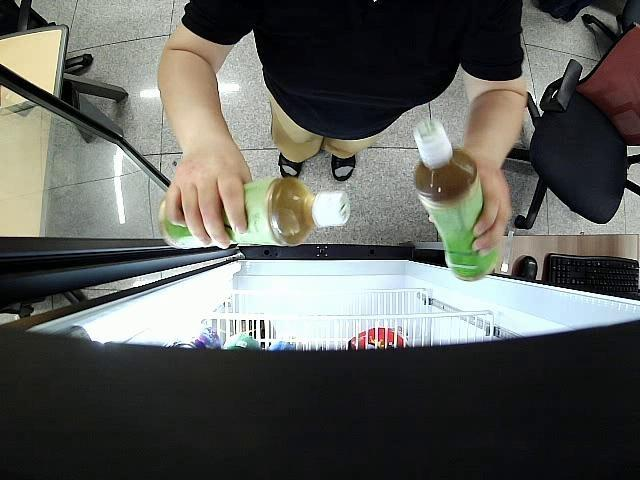19_17cha: (159, 176, 349, 250), (414, 118, 498, 283)
